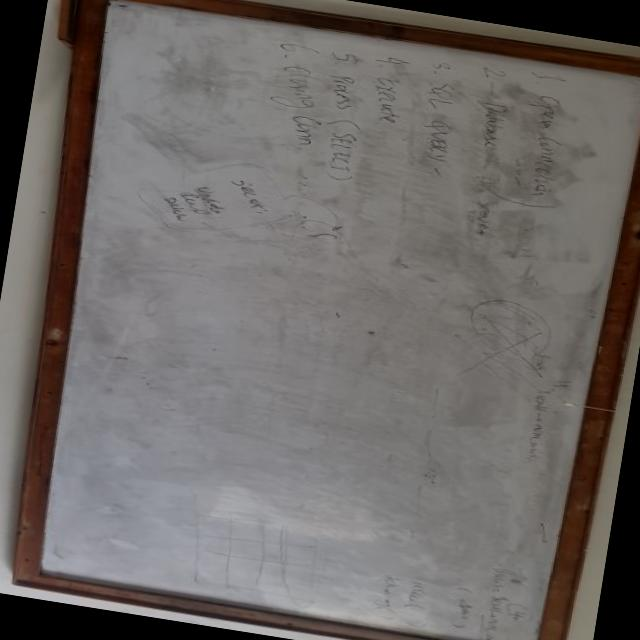White-board: (20, 0, 640, 640)
